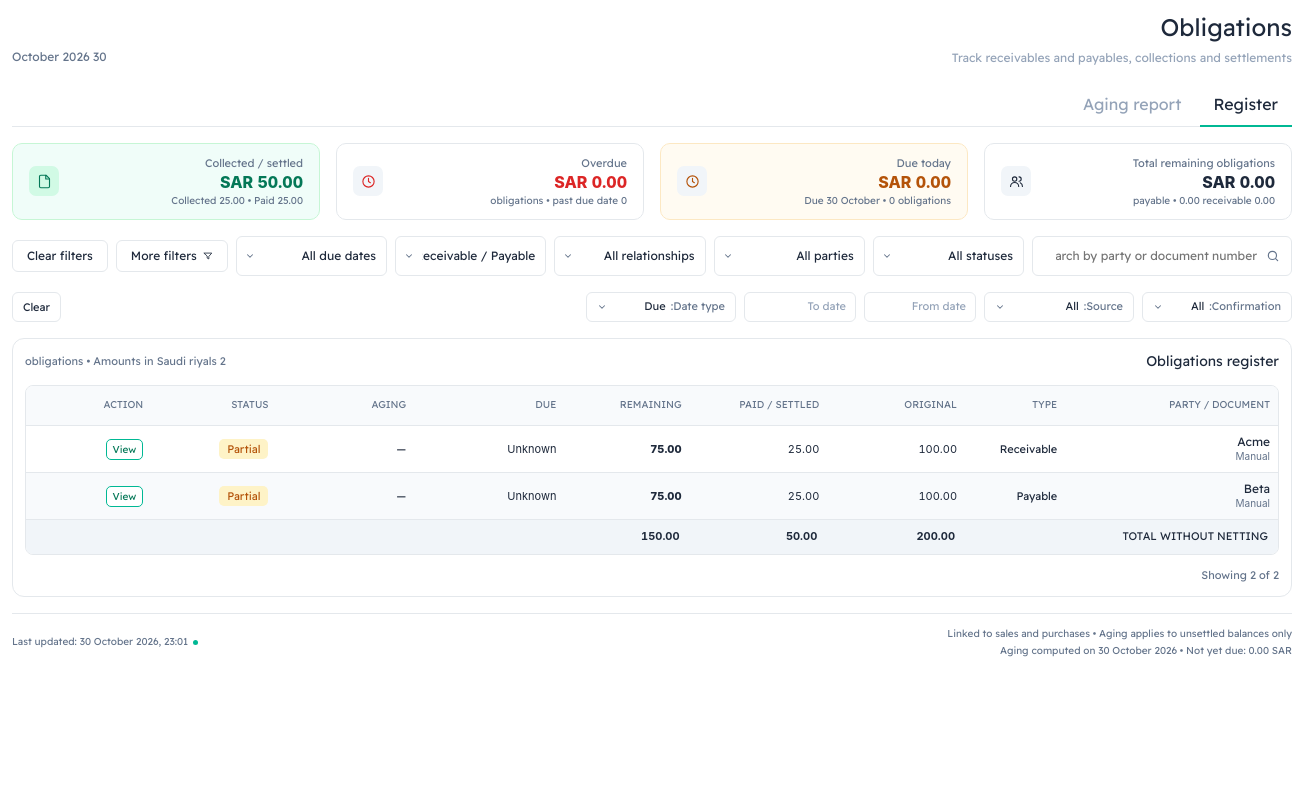
Test: Obligations workspace › combines local search with the existing direction filter
Expected: the cell "Acme Manual" is shown, [1065,426,1278,473]
In the search field named "Search obligations": point(1162, 256) [1032,236,1292,276], type "rent"
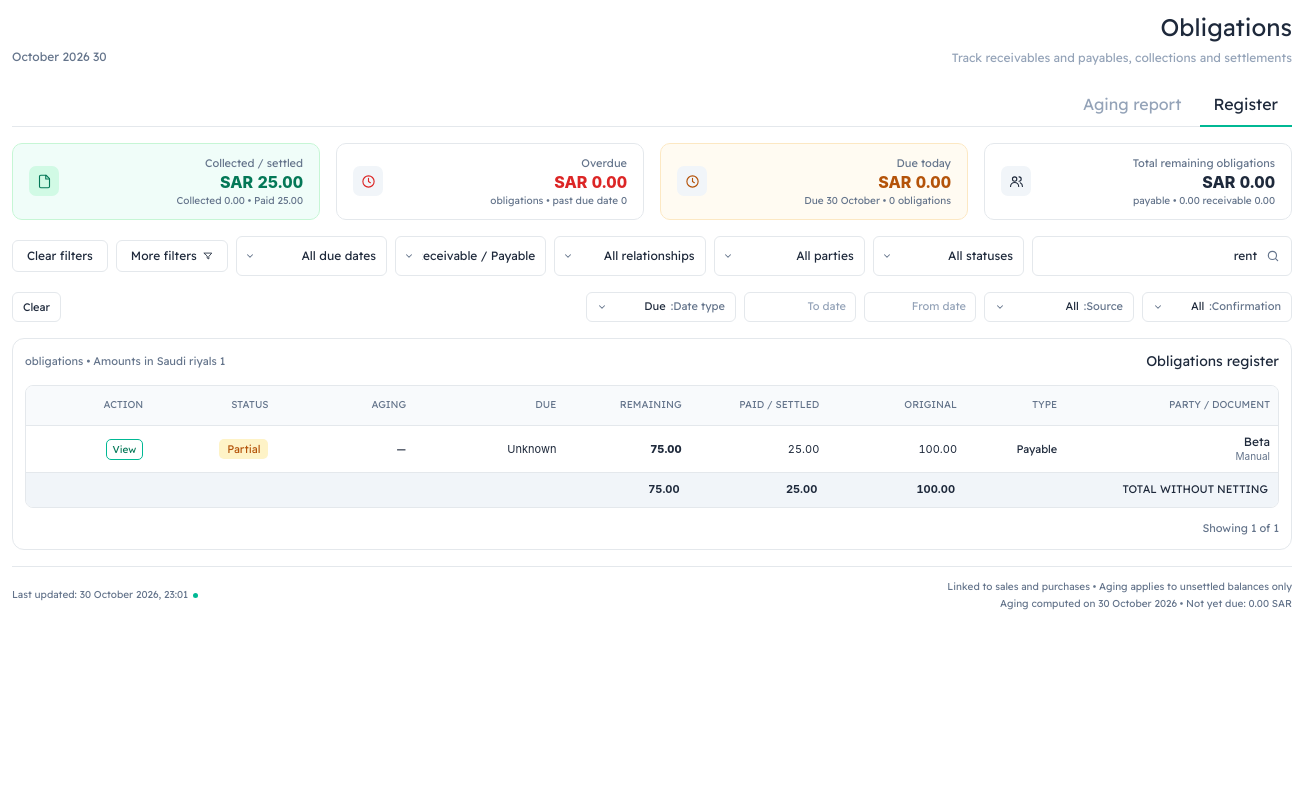
Expected: the cell "Beta Manual" is shown, [1065,426,1278,473]
Expected: the text "Acme" is gone
Select "Receivable" in the 2nd dropdown named "Direction": point(471, 256) [395,236,546,276]
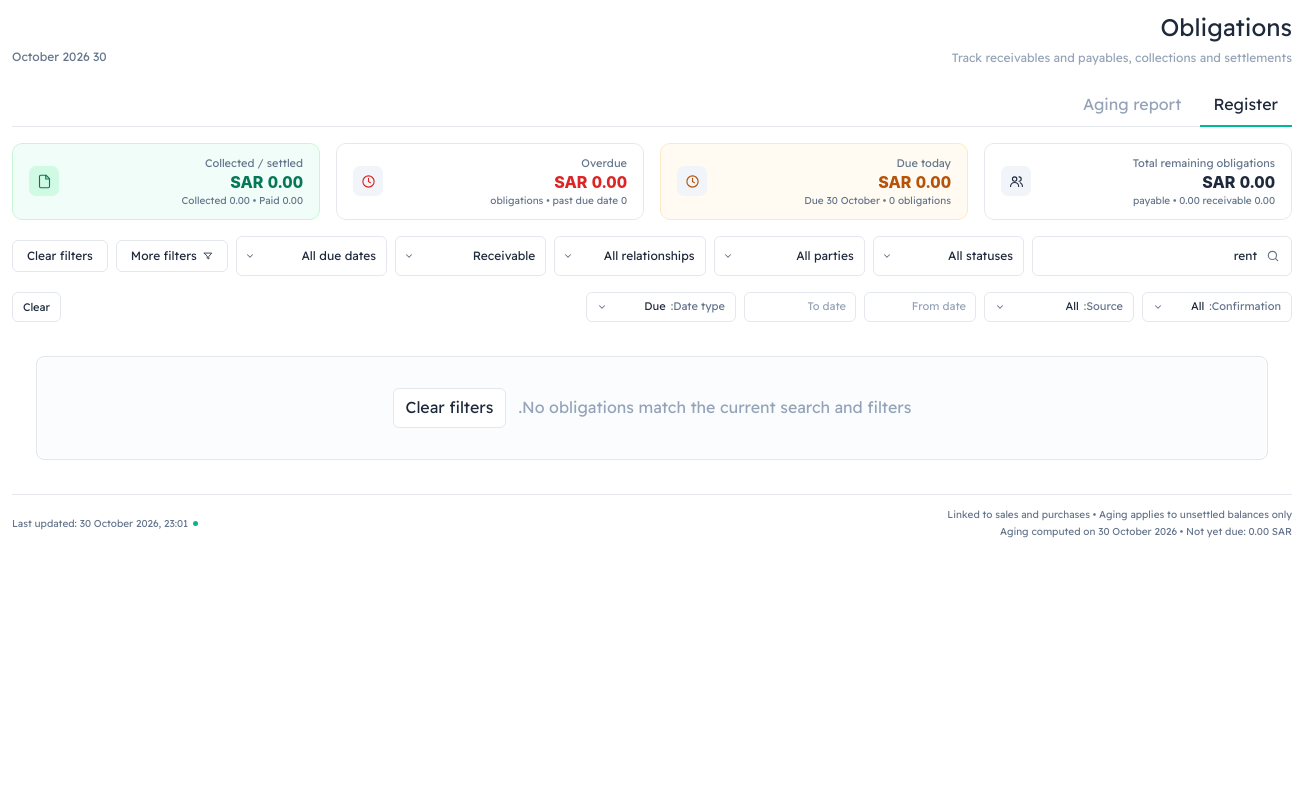
Expected: the text "Beta" is gone
Expected: the text "No obligations match the current search and filters." is shown, [518,395,911,421]
